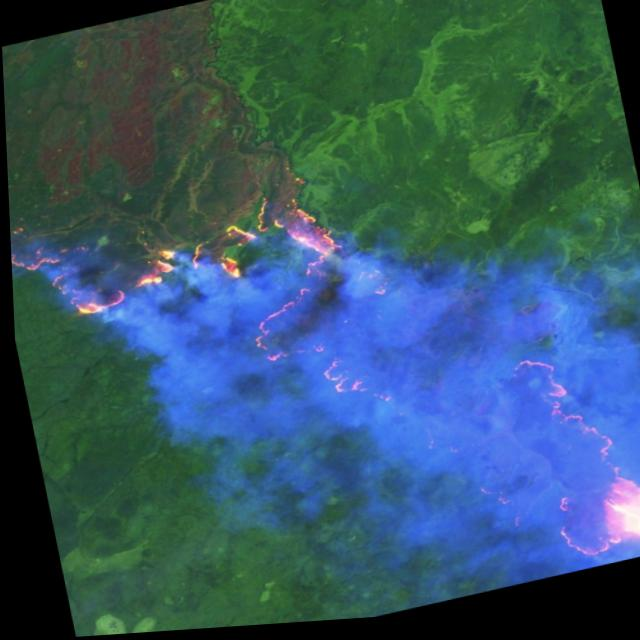fire: (4, 74, 640, 640)
